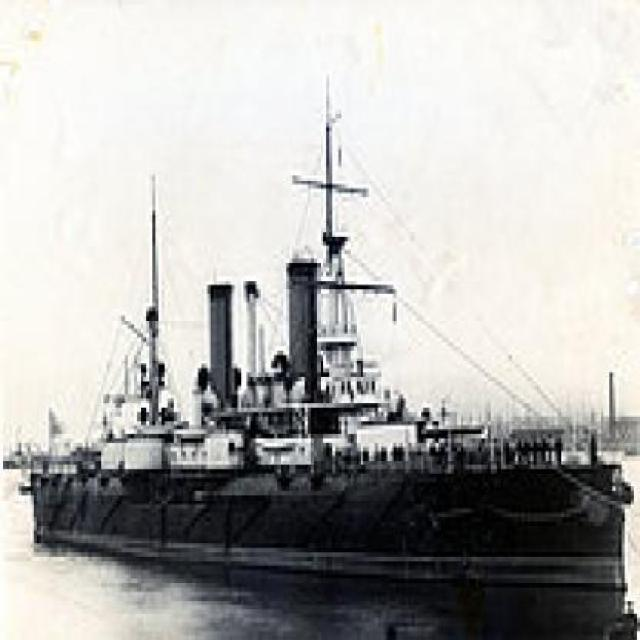warship2: (26, 62, 635, 602)
